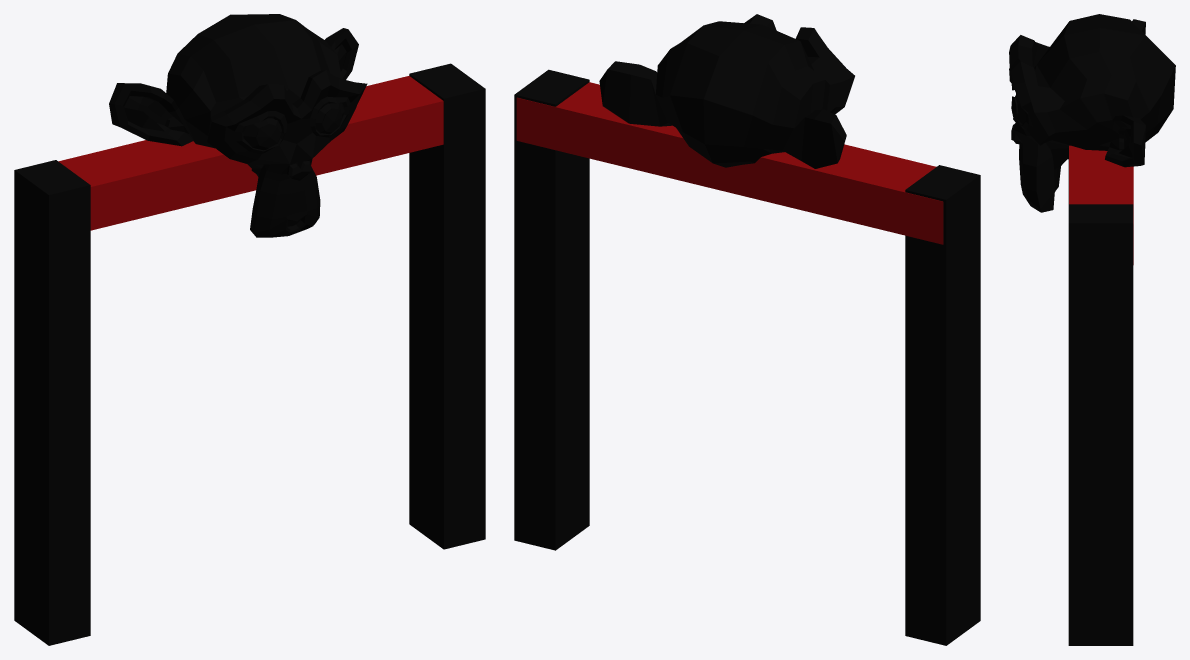
The model's file is Door.fbx.
The picture shows the model from 3 angles, left to right: view 1: azimuth 30°, elevation 25°; view 2: azimuth 150°, elevation 25°; view 3: azimuth 270°, elevation 25°; orthographic projection. The views are drawn at different scales.
Visible parts, largest first — view 1: Cube, Cube.002, Suzanne, Cube.001; view 2: Cube, Cube.002, Suzanne, Cube.001; view 3: Cube.002, Suzanne, Cube.001.
Boxes of the visible parts, x1,y1,x2,y2 form: Cube: (14, 160, 90, 645); Cube.002: (409, 63, 485, 549); Suzanne: (109, 14, 367, 237); Cube.001: (58, 76, 443, 230); Cube: (905, 165, 980, 645); Cube.002: (514, 69, 589, 550); Suzanne: (599, 14, 854, 168); Cube.001: (516, 82, 943, 244); Cube.002: (1068, 204, 1133, 645); Suzanne: (1009, 14, 1175, 212); Cube.001: (1069, 145, 1133, 264).
Bounding box in the file's own units: 482 × 586 × 170.
